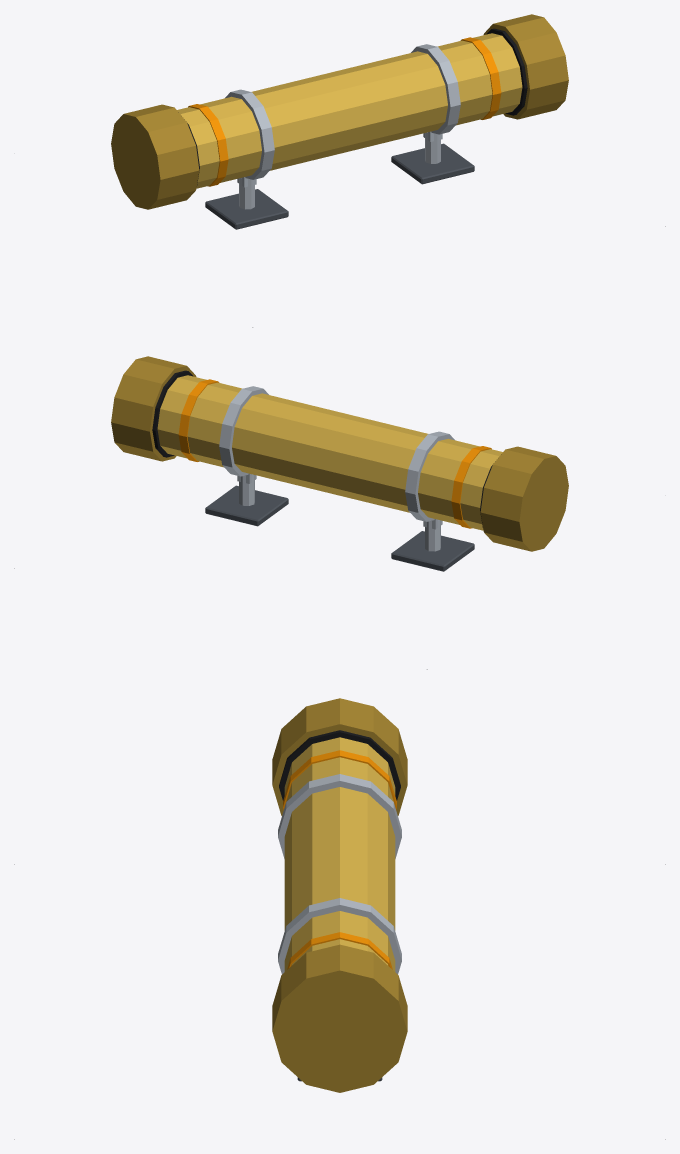
File: tuyau_droit_t2.glb
The picture shows the model from 3 angles, top to bottom: view 1: azimuth 30°, elevation 25°; view 2: azimuth 150°, elevation 25°; view 3: azimuth 270°, elevation 25°; orthographic projection. The views are drawn at different scales.
Parts seen in each view (by area): view 1: pieces_laiton.014, pieces_laiton_sombre.014, pieces_gris_clair.014, pieces_acier_sombre.050, pieces_rive_t2.016, pieces_noir.022; view 2: pieces_laiton.014, pieces_laiton_sombre.014, pieces_gris_clair.014, pieces_acier_sombre.050, pieces_rive_t2.016, pieces_noir.022; view 3: pieces_laiton_sombre.014, pieces_laiton.014, pieces_gris_clair.014, pieces_rive_t2.016, pieces_noir.022.
Part boxes in pixels (left/top/right/bottom): pieces_laiton.014: left=177, top=33, right=522, bottom=188; pieces_laiton_sombre.014: left=111, top=14, right=568, bottom=209; pieces_gris_clair.014: left=225, top=44, right=460, bottom=209; pieces_acier_sombre.050: left=205, top=143, right=474, bottom=229; pieces_rive_t2.016: left=188, top=37, right=501, bottom=186; pieces_noir.022: left=178, top=28, right=527, bottom=185; pieces_laiton.014: left=157, top=375, right=502, bottom=530; pieces_laiton_sombre.014: left=111, top=356, right=568, bottom=551; pieces_gris_clair.014: left=219, top=386, right=454, bottom=551; pieces_acier_sombre.050: left=205, top=485, right=474, bottom=571; pieces_rive_t2.016: left=178, top=379, right=491, bottom=528; pieces_noir.022: left=152, top=370, right=501, bottom=527; pieces_laiton_sombre.014: left=272, top=698, right=407, bottom=1092; pieces_laiton.014: left=284, top=737, right=395, bottom=971; pieces_gris_clair.014: left=278, top=774, right=401, bottom=974; pieces_rive_t2.016: left=283, top=750, right=396, bottom=969; pieces_noir.022: left=279, top=730, right=400, bottom=800.
Bounding box in the file's own units: 1 × 0.2837 × 1.
